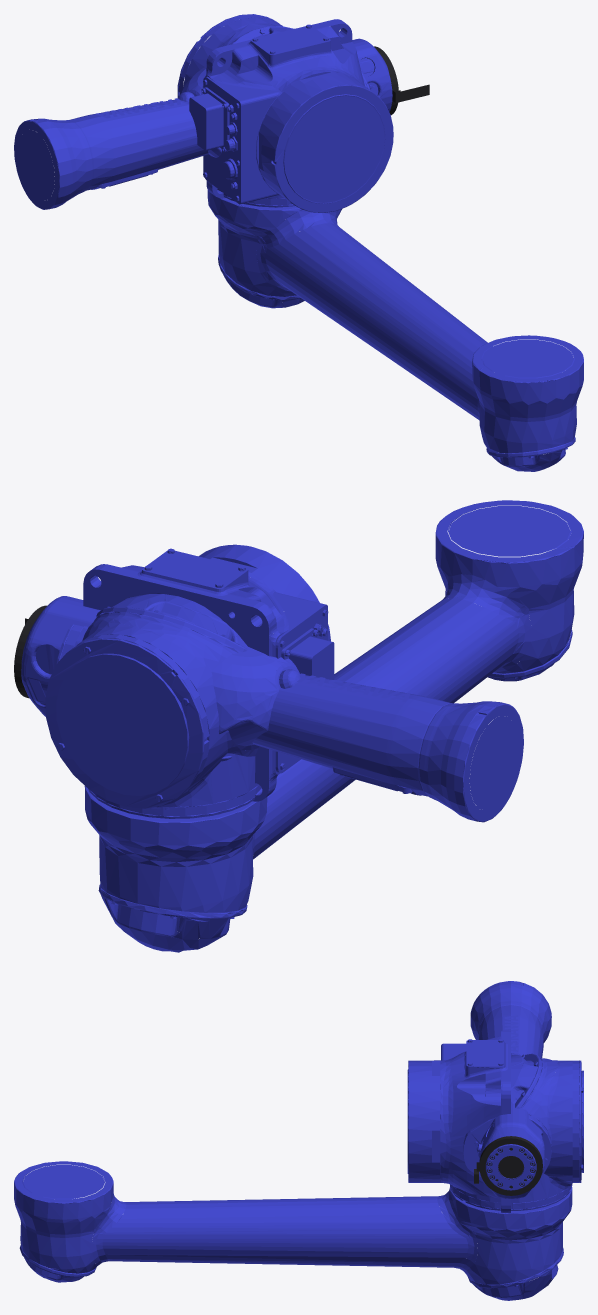
File: arm.glb
The picture shows the model from 3 angles, top to bottom: view 1: azimuth 30°, elevation 25°; view 2: azimuth 150°, elevation 25°; view 3: azimuth 270°, elevation 25°; orthographic projection. The views are drawn at different scales.
Visible parts, largest first — view 1: b3, b1, b5, b2, b7, b6; view 2: b3, b2, b5, b1, b6, b7, b4; view 3: b3, b1, b2, b7, b5, b4.
Part boxes in pixels (x1=…): b3: x1=207, y1=190, x2=583, y2=471; b1: x1=189, y1=19, x2=393, y2=212; b5: x1=14, y1=98, x2=208, y2=209; b2: x1=177, y1=14, x2=294, y2=207; b7: x1=352, y1=38, x2=429, y2=115; b6: x1=178, y1=66, x2=227, y2=157; b3: x1=84, y1=500, x2=583, y2=952; b2: x1=45, y1=594, x2=261, y2=818; b5: x1=252, y1=673, x2=523, y2=822; b1: x1=83, y1=544, x2=334, y2=801; b6: x1=197, y1=631, x2=300, y2=746; b7: x1=14, y1=596, x2=114, y2=716; b4: x1=56, y1=611, x2=245, y2=809; b3: x1=14, y1=1161, x2=572, y2=1300; b1: x1=407, y1=1030, x2=510, y2=1212; b2: x1=450, y1=1053, x2=583, y2=1210; b7: x1=474, y1=1103, x2=544, y2=1198; b5: x1=470, y1=981, x2=551, y2=1057; b4: x1=463, y1=1080, x2=568, y2=1190.
Size of the model in its own units: 0.5974 by 0.4215 by 0.892.
